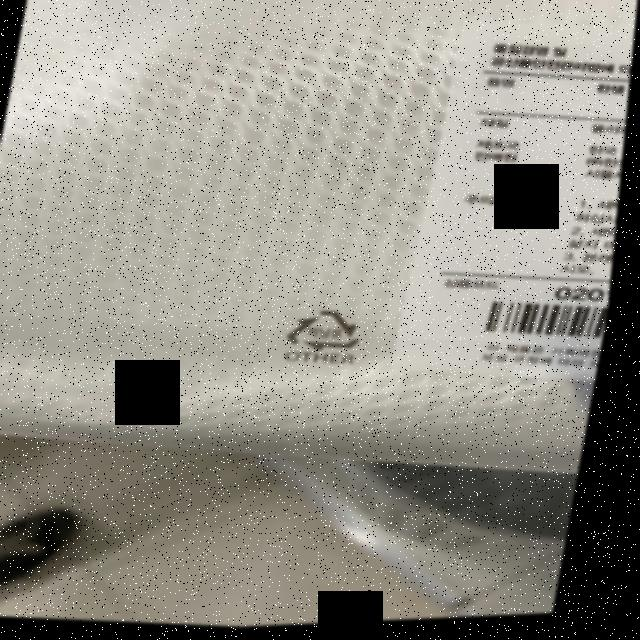Vinyl: (287, 306, 375, 360)
